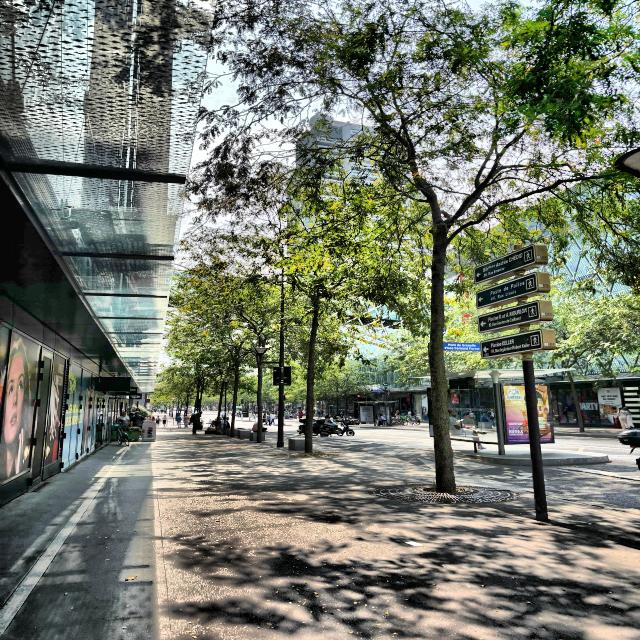arvore: (241, 234, 268, 442), (268, 253, 288, 450), (302, 279, 323, 455), (194, 283, 209, 411)
